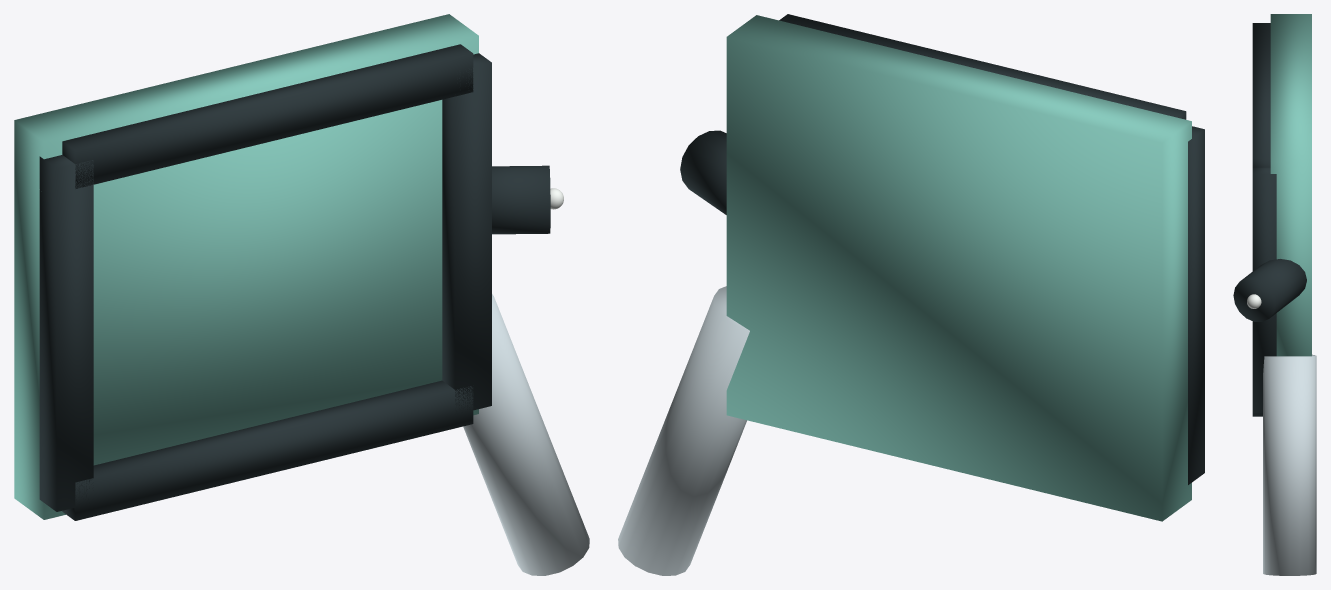
The model's file is tool-ear.glb.
The picture shows the model from 3 angles, left to right: view 1: azimuth 30°, elevation 25°; view 2: azimuth 150°, elevation 25°; view 3: azimuth 270°, elevation 25°; orthographic projection. The views are drawn at different scales.
Parts seen in each view (by area): view 1: viewer chassis.001, screen horizontal bezel.003, screen horizontal bezel.002, screen vertical bezel.002, screen vertical bezel.003, otoscope handle, otoscope cone; view 2: viewer chassis.001, otoscope handle, screen vertical bezel.002, screen horizontal bezel.003, otoscope cone; view 3: viewer chassis.001, otoscope handle, screen vertical bezel.003, otoscope cone, screen horizontal bezel.003, otoscope lamp.
Boxes of the visible parts, x1,y1,x2,y2 form: viewer chassis.001: (14, 14, 478, 519); screen horizontal bezel.003: (62, 44, 473, 188); screen horizontal bezel.002: (62, 380, 473, 520); screen vertical bezel.002: (39, 155, 93, 511); screen vertical bezel.003: (442, 53, 491, 412); otoscope handle: (463, 294, 589, 575); otoscope cone: (492, 165, 550, 234); viewer chassis.001: (726, 15, 1191, 521); otoscope handle: (618, 286, 749, 575); screen vertical bezel.002: (1188, 126, 1204, 484); screen horizontal bezel.003: (779, 14, 1186, 119); otoscope cone: (680, 130, 726, 214); viewer chassis.001: (1270, 14, 1311, 356); otoscope handle: (1263, 354, 1316, 575); screen vertical bezel.003: (1252, 167, 1276, 413); otoscope cone: (1233, 259, 1306, 321); screen horizontal bezel.003: (1252, 23, 1270, 167); otoscope lamp: (1247, 294, 1261, 308).
Size of the model in its own units: 1.5 by 1.45 by 0.2802.
